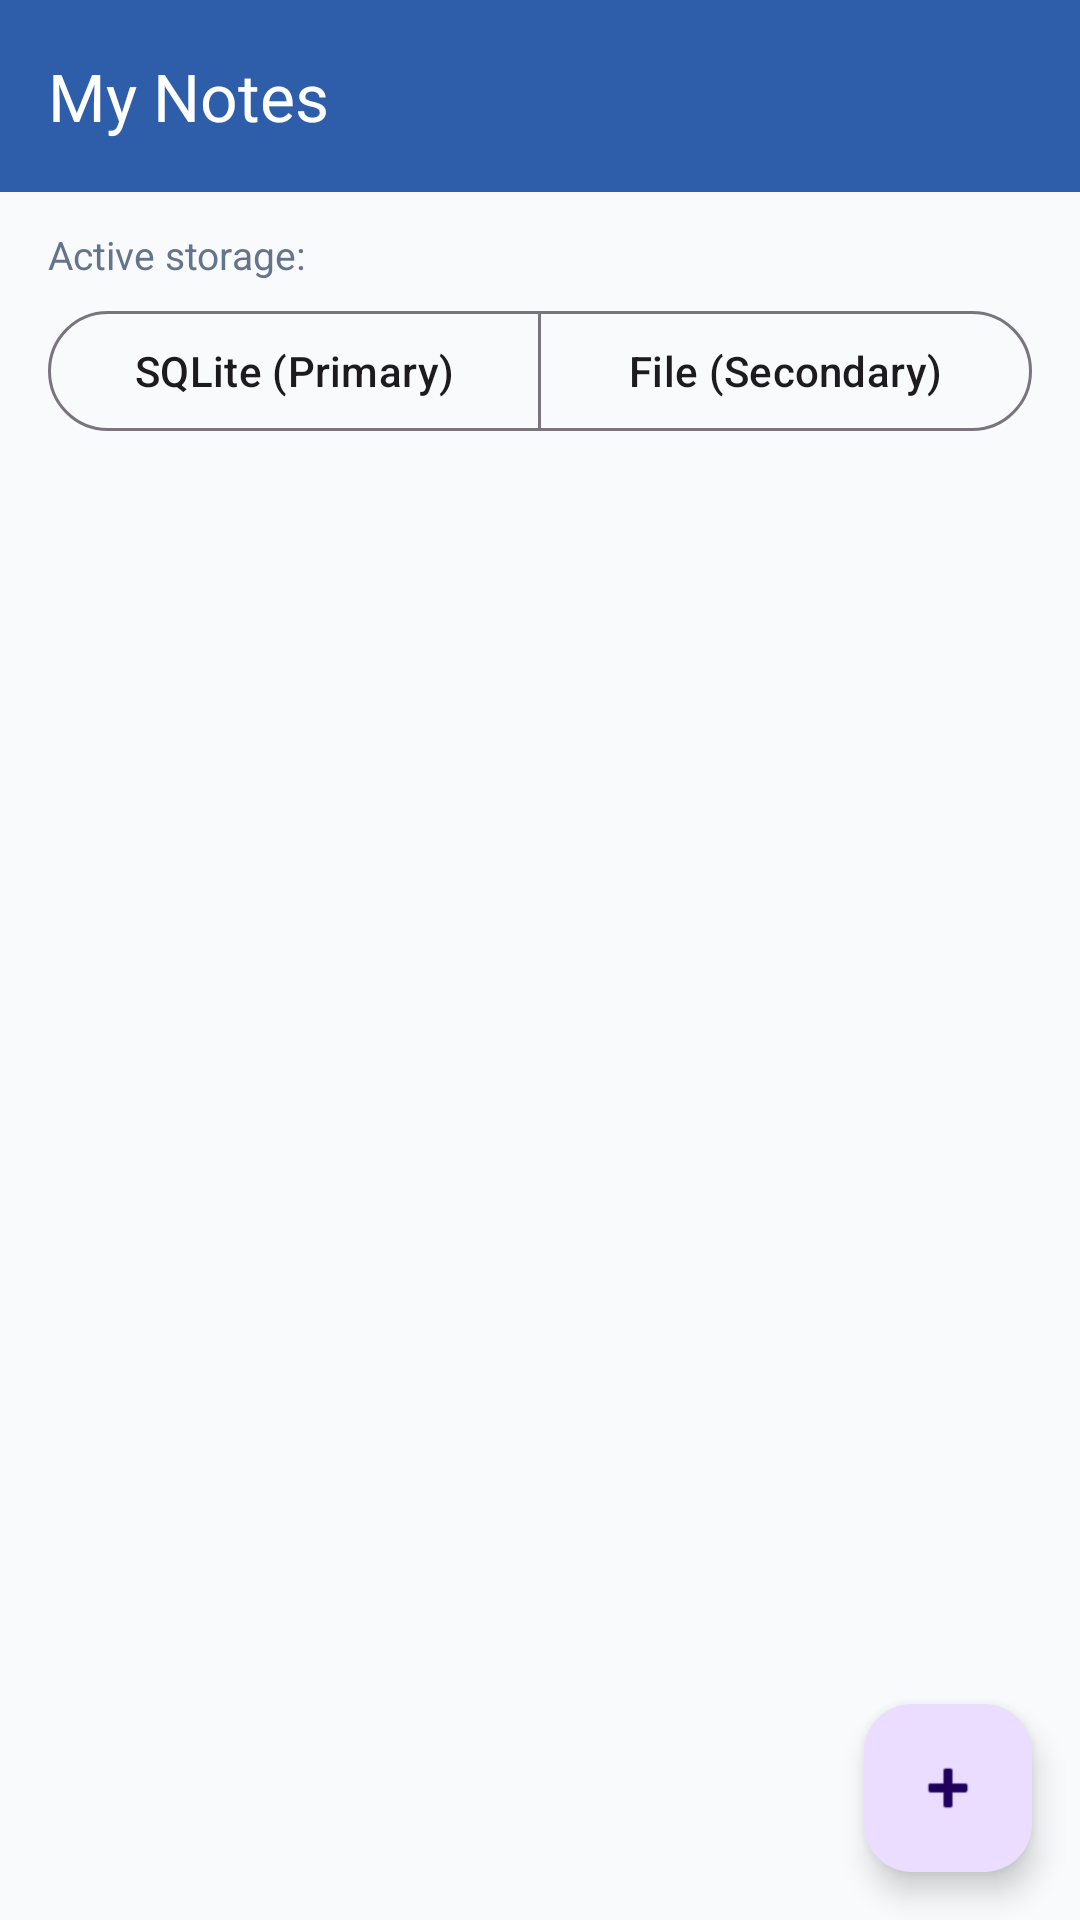

Icon bounding boxes for this 1080px x 1920px phone screenshot, format (x1, y1, x2, y2):
Add note: (864, 1704, 1032, 1872)
